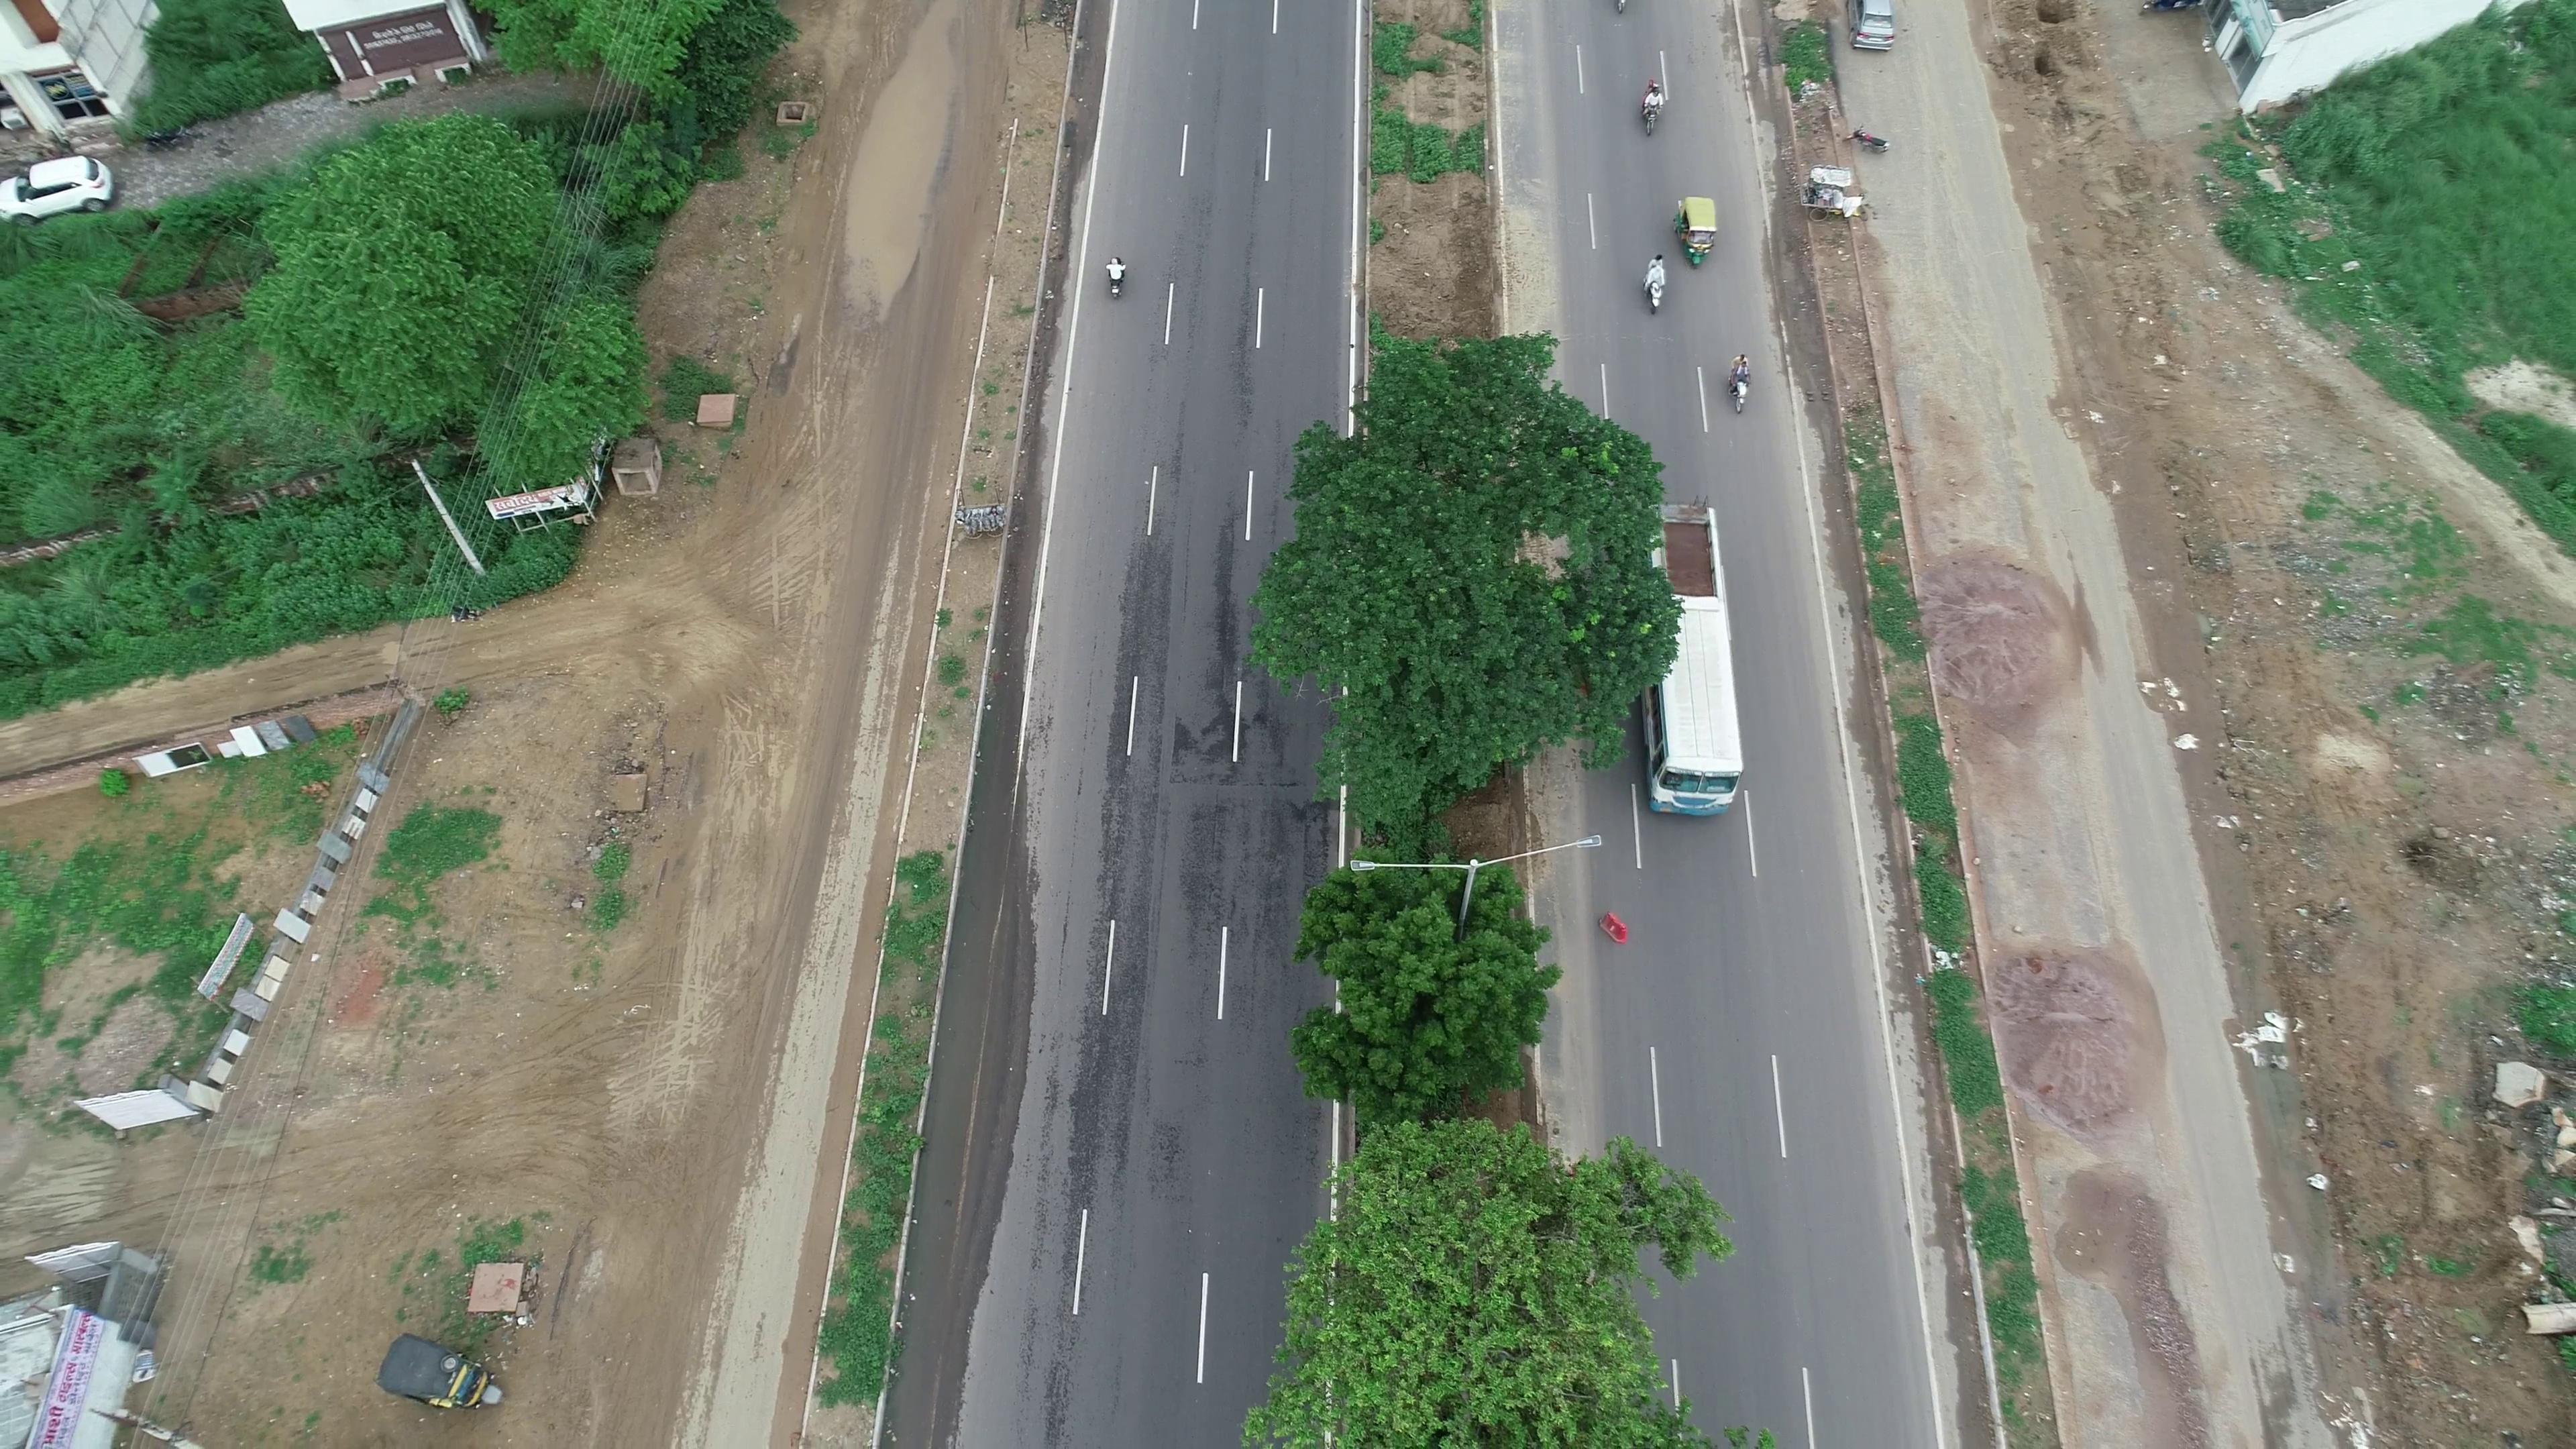Muddy_road: (1930, 446, 2082, 810), (2001, 929, 2173, 1196)
Ravelling: (1063, 538, 1192, 1154), (1184, 479, 1277, 789)
